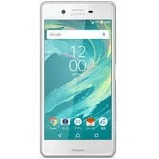sony: (37, 1, 116, 159)
